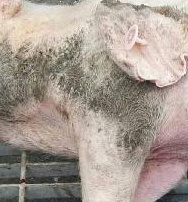text: (114, 17, 155, 61)
